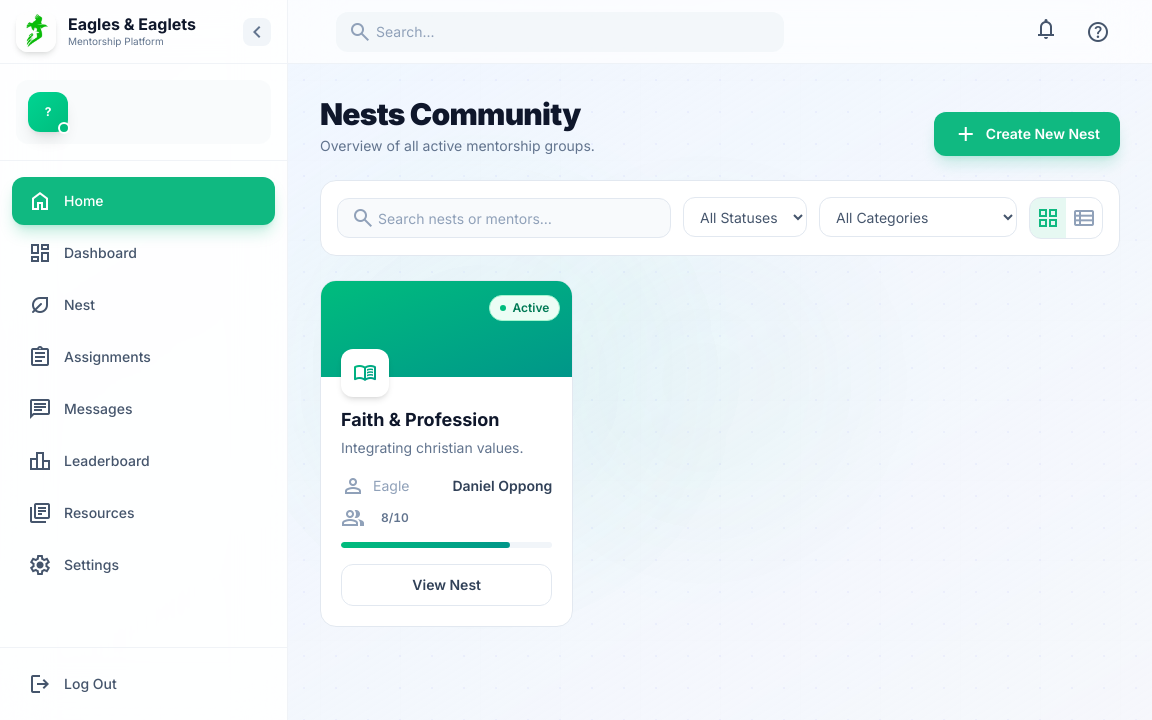
AdminNestsPage › opens the Create New Nest modal
Click the button "Create New Nest" at (1027, 134), box [934,112,1120,156]
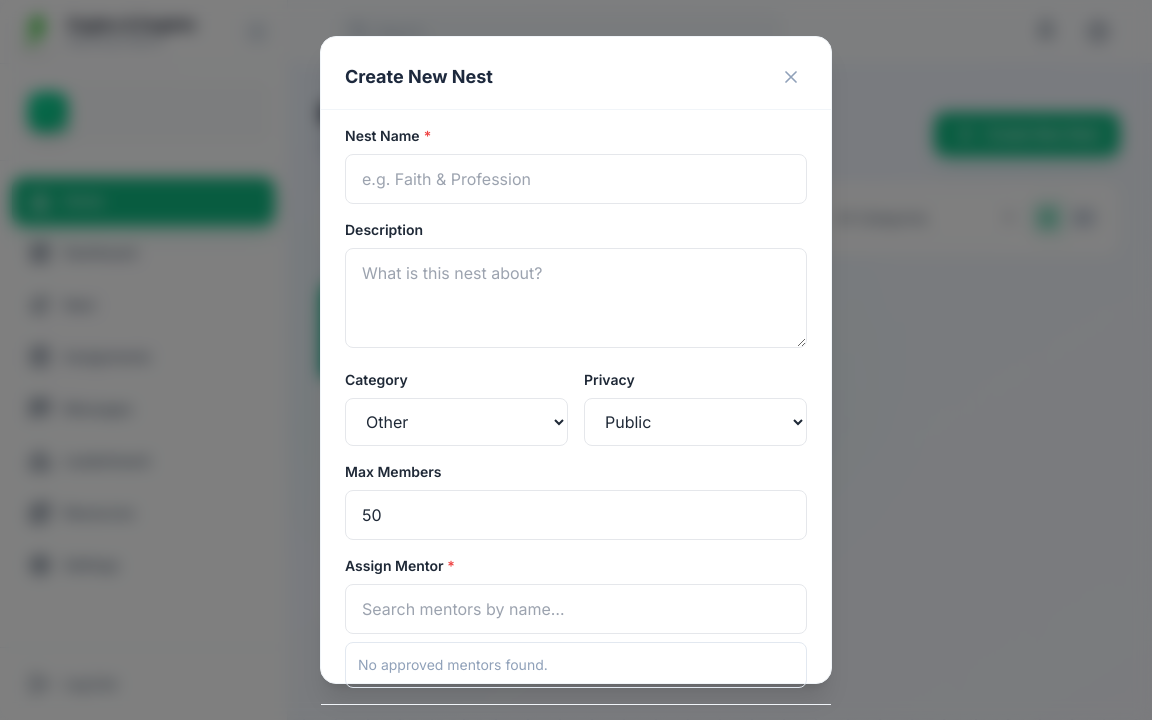
Expected: the text "Assign Mentor *" is shown, [345,557,455,574]
